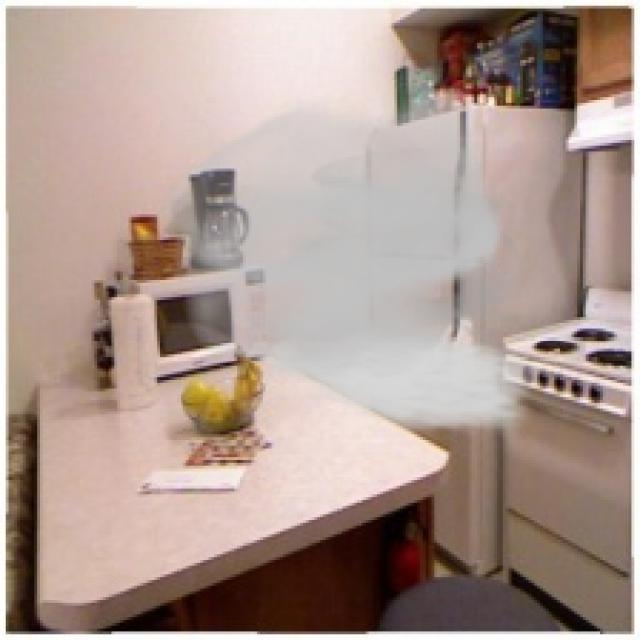Smoke: (154, 89, 549, 438)
